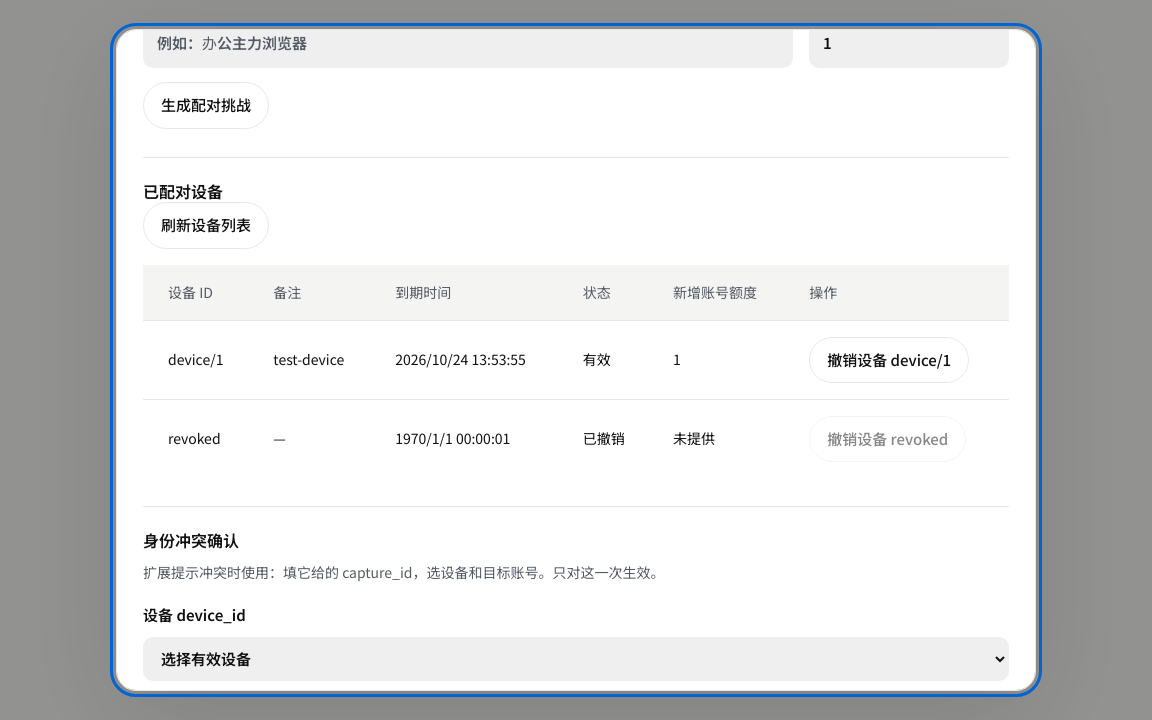
Test: 扩展设备配对 › 撤销前确认，可取消，成功后标记撤销且不展示返回秘密
The width and height of the screenshot is (1152, 720).
(page scrolled)
Click the button "撤销设备 device/1".
click(889, 360)  # box [809,337,969,383]
(page scrolled)
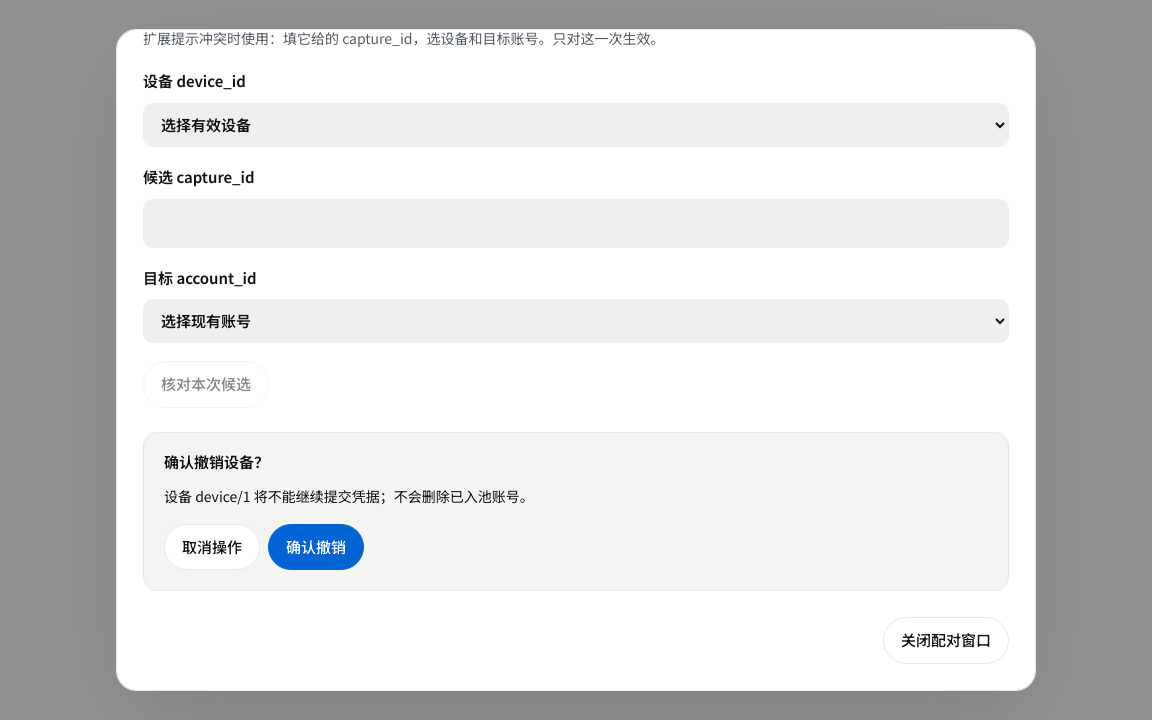
Click the button "取消操作".
click(212, 547)  # box [164,524,260,570]
(page scrolled)
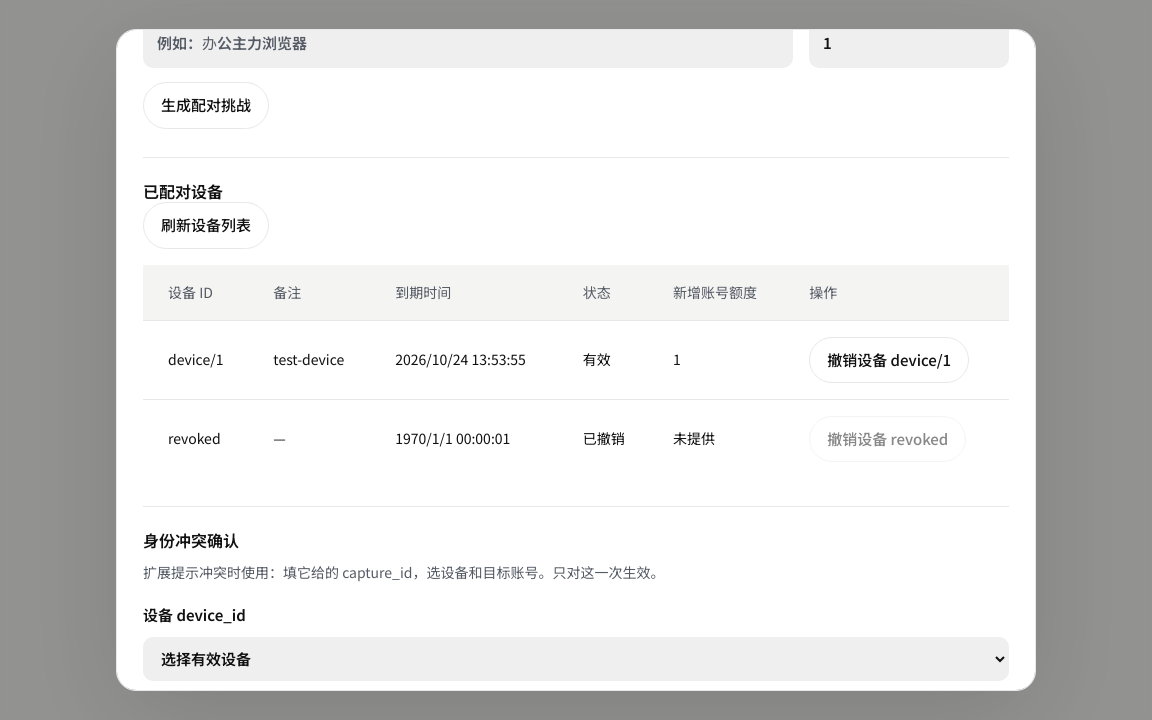
Click the button "撤销设备 device/1".
click(889, 360)  # box [809,337,969,383]
(page scrolled)
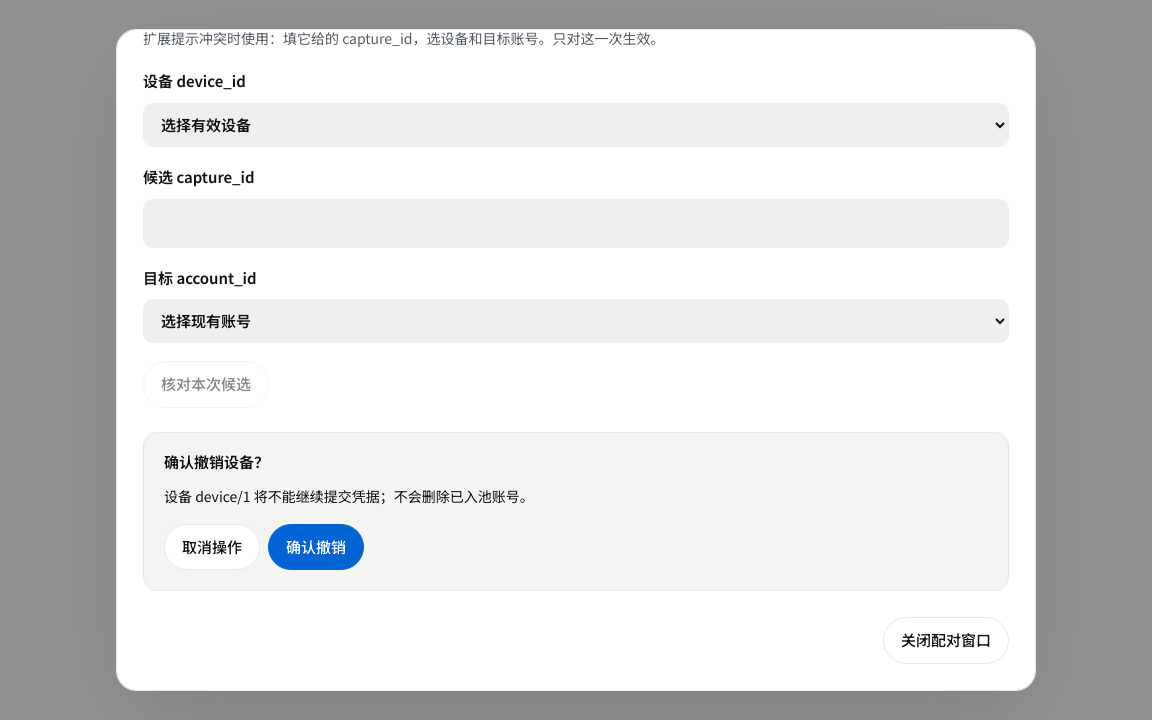
Click the button "确认撤销".
click(316, 547)  # box [268,524,364,570]
(page scrolled)
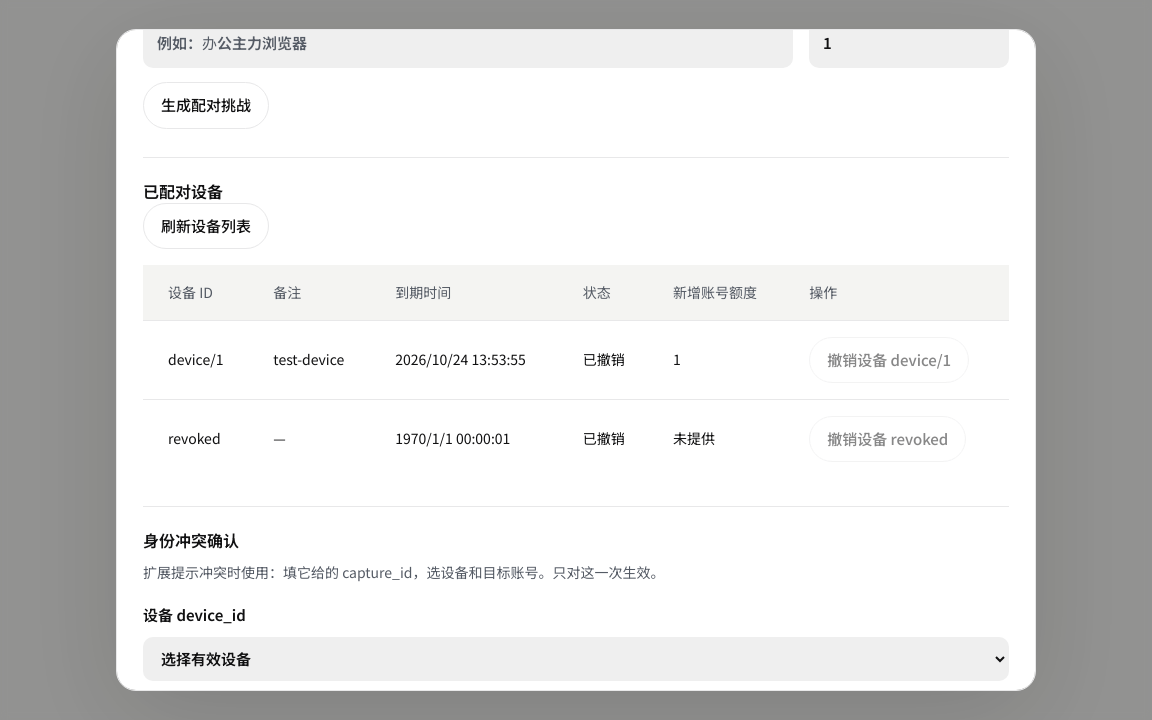
Check: the button "撤销设备 device/1" is disabled, box [809,337,969,383]
